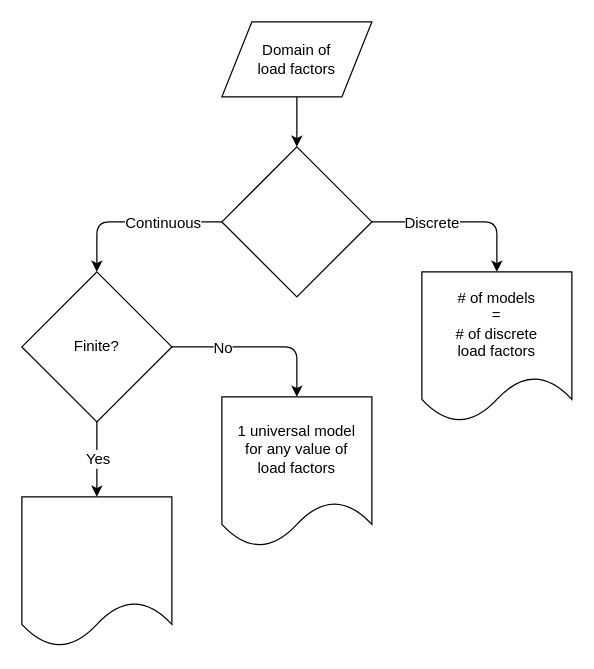
Image size: 594x669. Some labels were removed from this diagram. Here are the shapes that lost their labels. From the top down, the centre of each, then its label:
the point at 296,221: Continuous or discrete?
the point at 96,571: Arbitrary number of models for equal-length intervals of load factors
